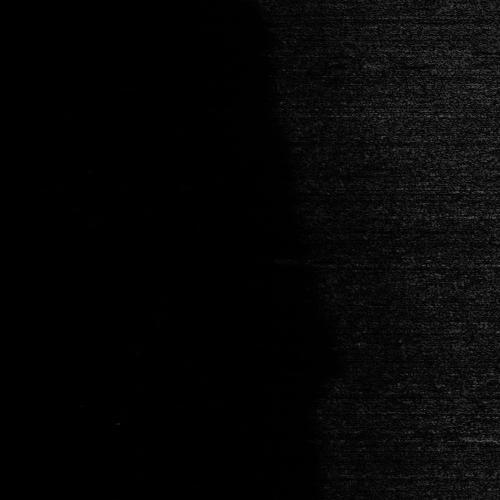object: (442, 429, 500, 438)
shadow: (474, 429, 500, 438)
